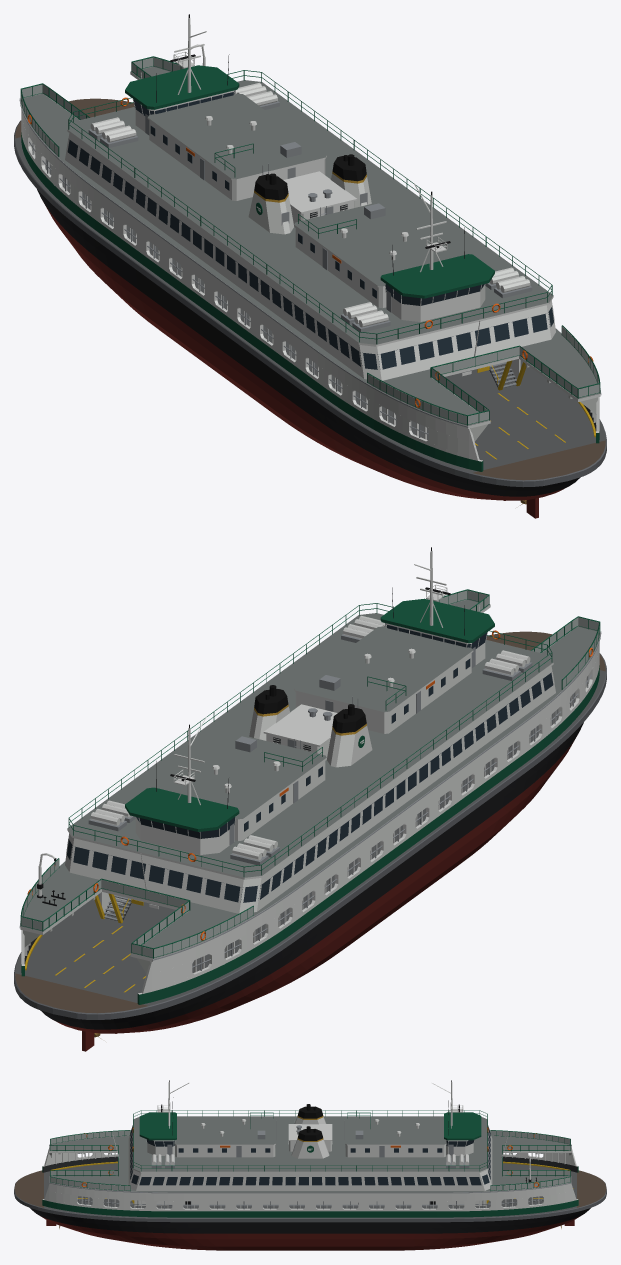
File: ferry_mid.glb
3 renders of one model, top to bottom at view 1: azimuth 30°, elevation 25°; view 2: azimuth 150°, elevation 25°; view 3: azimuth 270°, elevation 25°, orthographic. The views are drawn at different scales.
Visible parts, largest first — view 1: fixed, glass, thinshadow; view 2: fixed, glass, thinshadow; view 3: fixed, glass, thinshadow, window.
Boxes of the visible parts, box(x1,y1,x2,y2) form: fixed: box(14, 14, 606, 518); glass: box(67, 90, 553, 369); thinshadow: box(68, 52, 552, 383); fixed: box(14, 547, 606, 1051); glass: box(67, 623, 553, 902); thinshadow: box(54, 585, 552, 916); fixed: box(14, 1080, 606, 1250); glass: box(130, 1126, 490, 1185); thinshadow: box(133, 1097, 487, 1171); window: box(178, 1148, 442, 1152).
Bounding box in the file's own units: 22.3 × 26 × 94.5.
